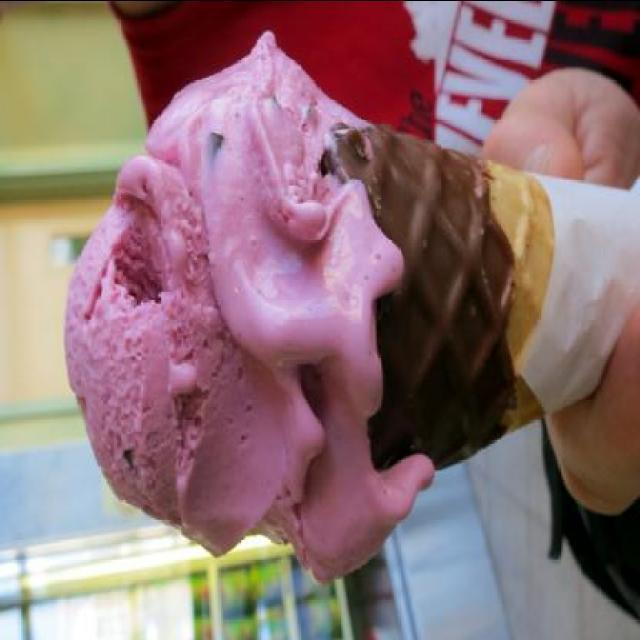Ice cream: (79, 69, 558, 553)
